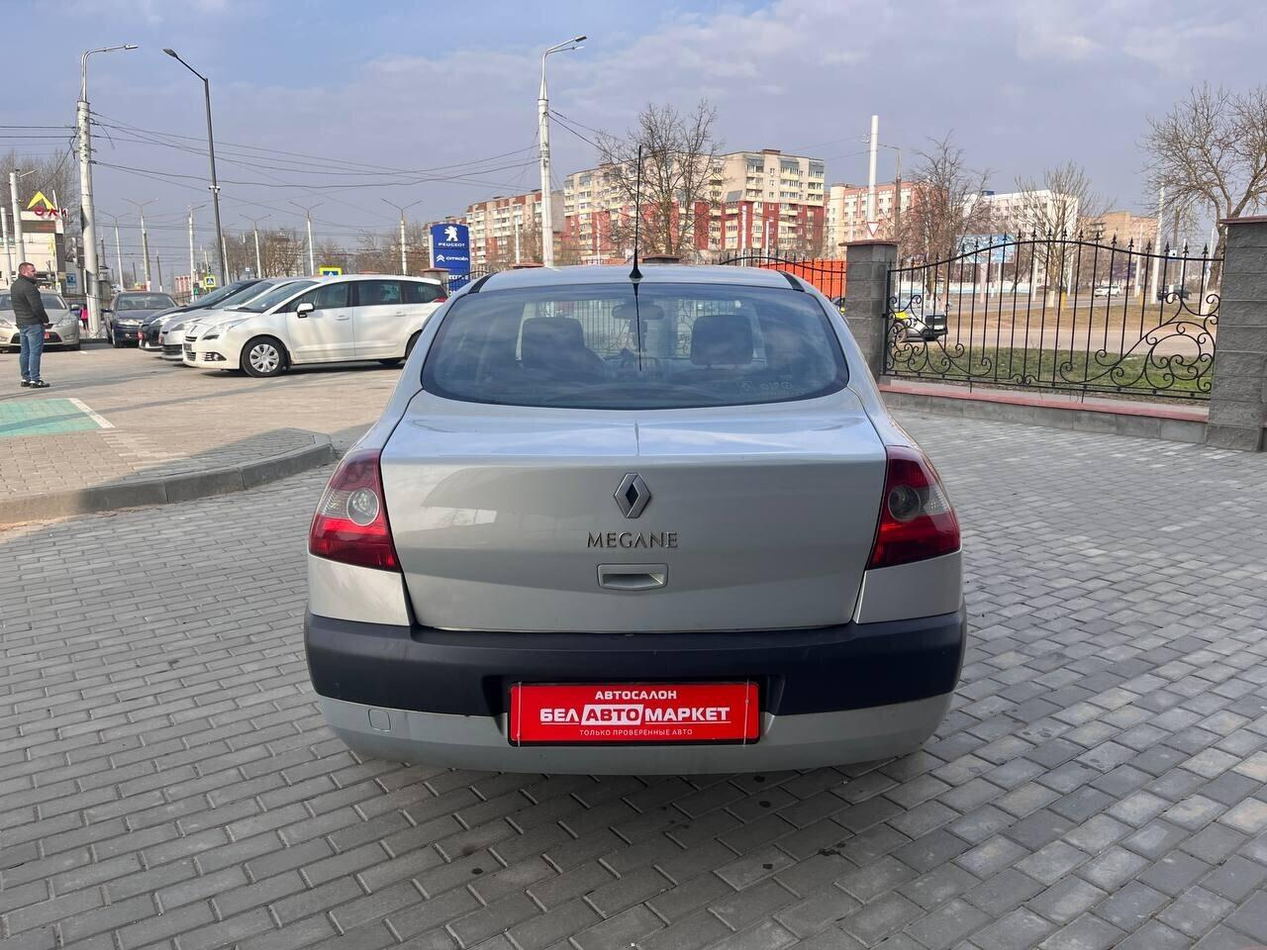Megane_2002-2006: (296, 254, 980, 798)
